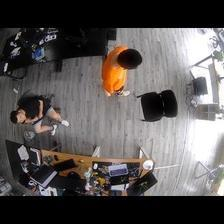normal: (9, 92, 69, 140), (99, 42, 141, 100)
